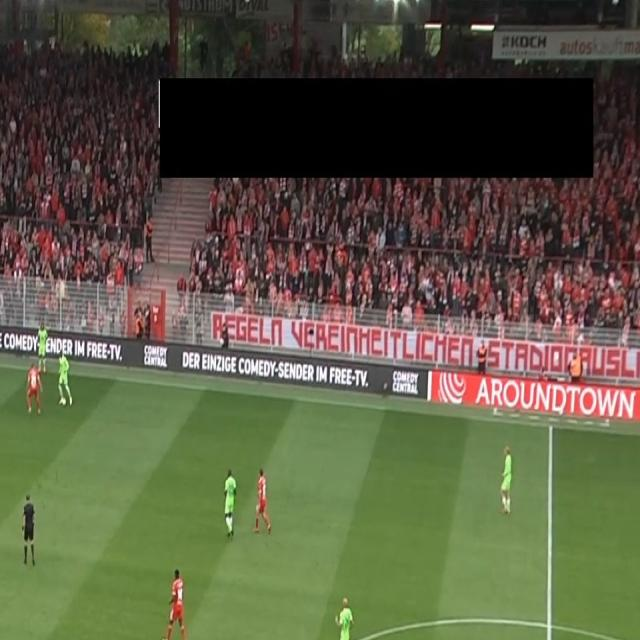ball: (61, 398, 66, 408)
